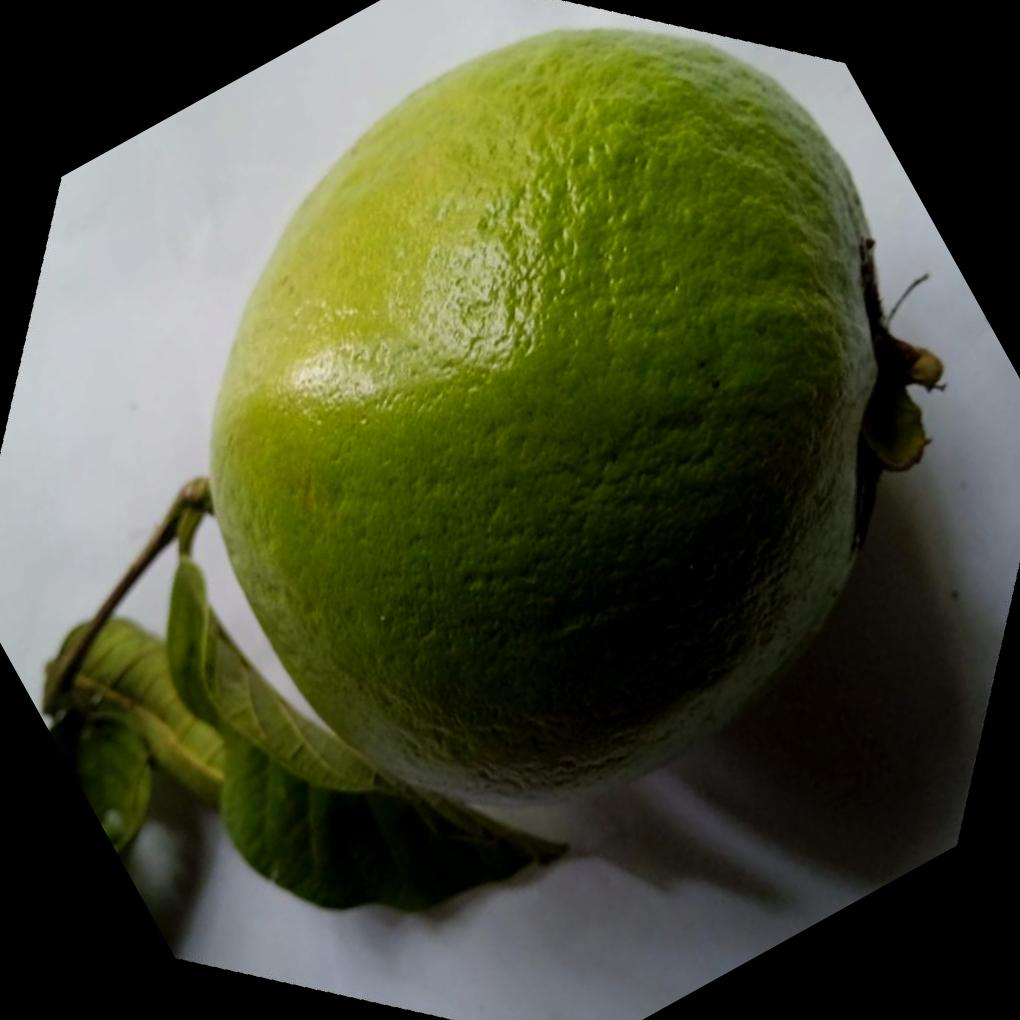FreshGuava: (206, 25, 893, 815)
